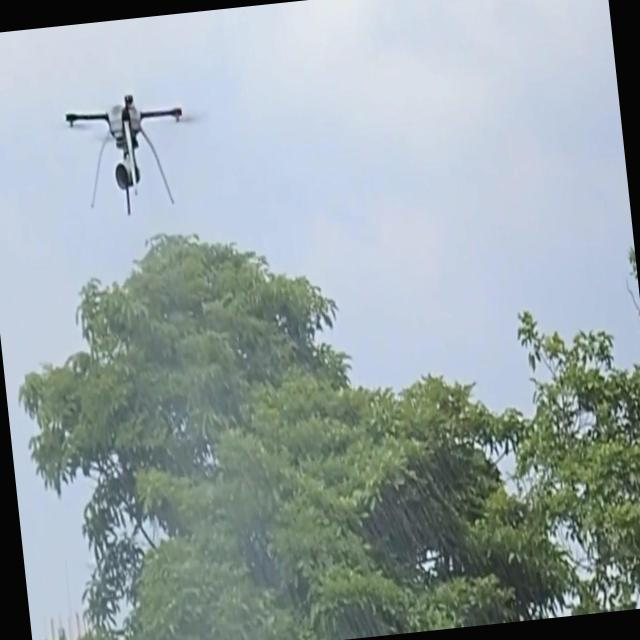drone: (62, 84, 197, 222)
